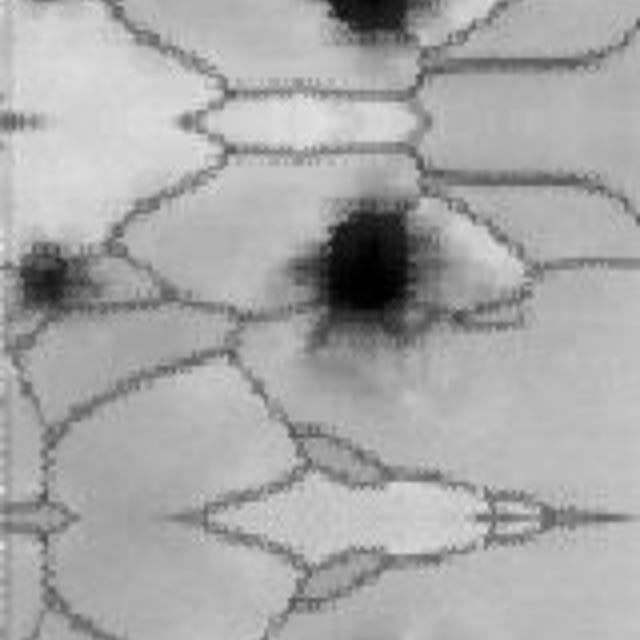good_void: (288, 194, 451, 358), (12, 235, 95, 326), (317, 0, 442, 50)
